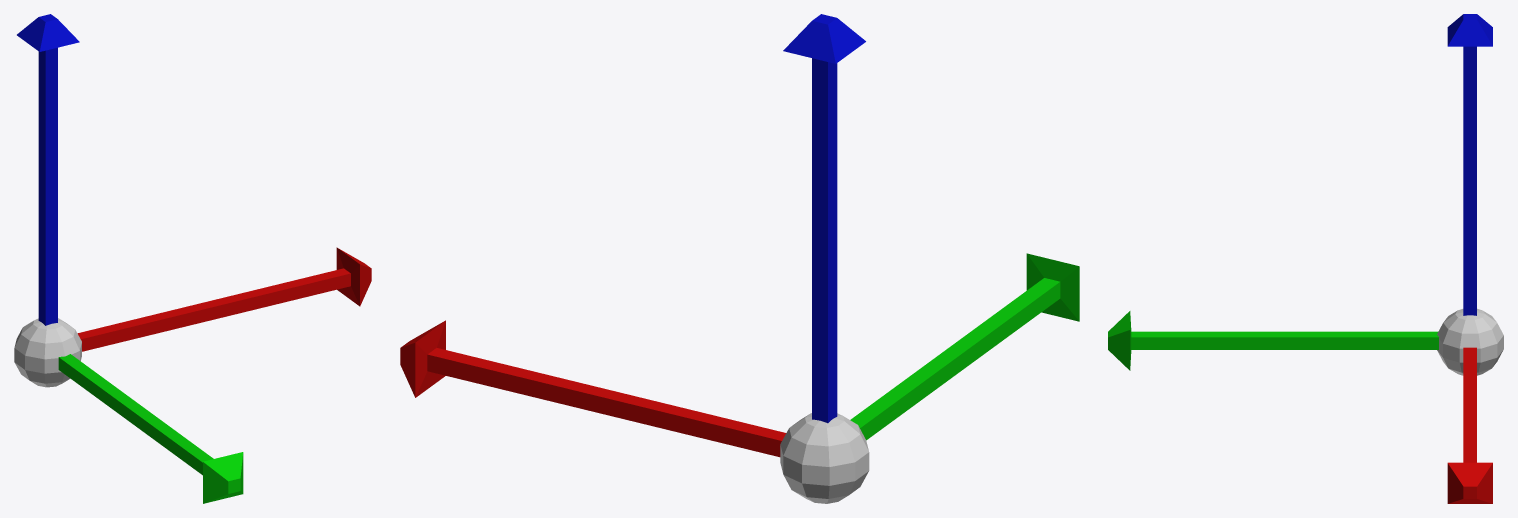
Rendered from axis.obj.
The picture shows the model from 3 angles, left to right: view 1: azimuth 30°, elevation 25°; view 2: azimuth 150°, elevation 25°; view 3: azimuth 270°, elevation 25°; orthographic projection. The views are drawn at different scales.
Parts seen in each view (by area): view 1: axis_Sphere_Material.003, axis_Sphere_Material.001, axis_Sphere_Material.002, axis_Sphere_Material.004; view 2: axis_Sphere_Material.003, axis_Sphere_Material.001, axis_Sphere_Material.002, axis_Sphere_Material.004; view 3: axis_Sphere_Material.002, axis_Sphere_Material.003, axis_Sphere_Material.001, axis_Sphere_Material.004.
Part boxes in pixels (x1,y1,x2,y2): axis_Sphere_Material.003: (17,14,79,325); axis_Sphere_Material.001: (77,247,371,351); axis_Sphere_Material.002: (58,354,243,503); axis_Sphere_Material.004: (14,318,81,387); axis_Sphere_Material.003: (783,14,865,423); axis_Sphere_Material.001: (400,320,786,457); axis_Sphere_Material.002: (850,253,1079,440); axis_Sphere_Material.004: (780,413,869,503); axis_Sphere_Material.002: (1108,311,1438,370); axis_Sphere_Material.003: (1447,14,1492,315); axis_Sphere_Material.001: (1447,347,1492,503); axis_Sphere_Material.004: (1437,308,1503,375).
Bounding box in the file's own units: 0.3445 × 0.3459 × 0.3478.
